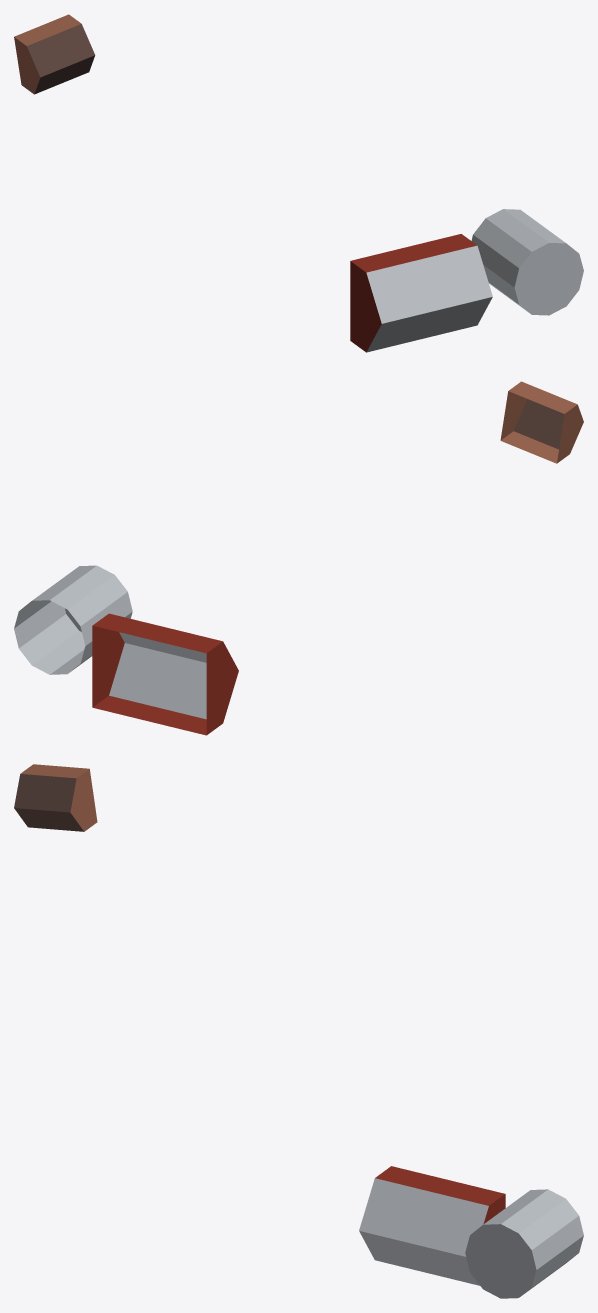
File: island_bldg_13_07.obj
3 views of the same model, one above another, from view 1: azimuth 30°, elevation 25°; view 2: azimuth 150°, elevation 25°; view 3: azimuth 330°, elevation 25° (orthographic). The views are drawn at different scales.
Parts seen in each view (by area): view 1: island_bldg_13_07; view 2: island_bldg_13_07; view 3: island_bldg_13_07.
Boxes of the visible parts, left/top/right/bottom form: island_bldg_13_07: left=14, top=14, right=583, bottom=352; island_bldg_13_07: left=14, top=381, right=583, bottom=735; island_bldg_13_07: left=14, top=764, right=583, bottom=1298.
Bounding box in the file's own units: 153 × 110 × 23.02.
